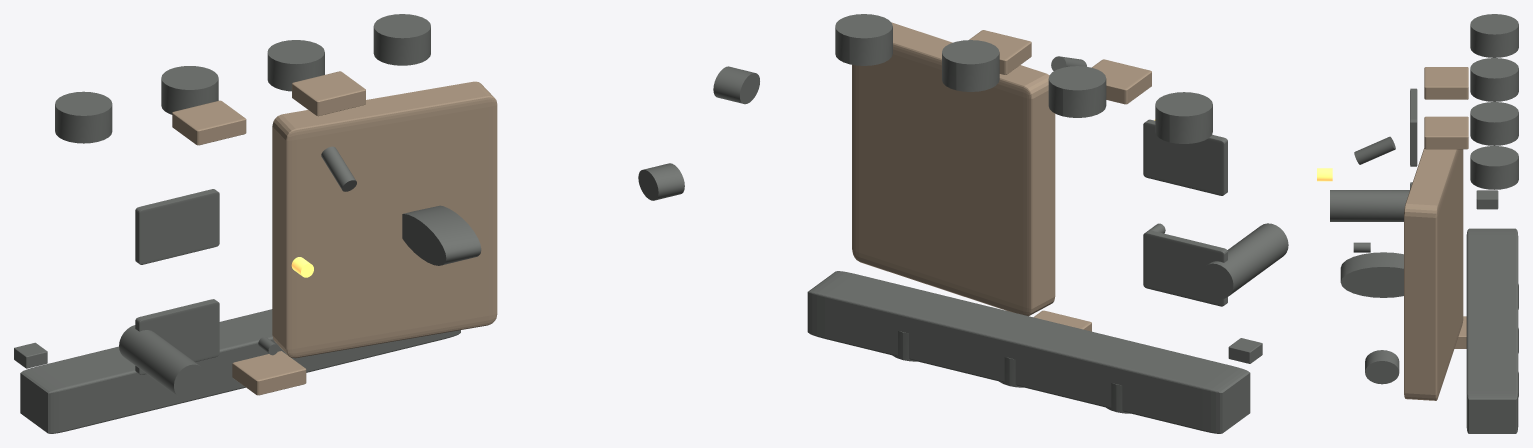
File: d-u13-dominion-main-battle-tank-lod2.glb
3 views of the same model, side by side, from view 1: azimuth 30°, elevation 25°; view 2: azimuth 150°, elevation 25°; view 3: azimuth 270°, elevation 25° (orthographic). The views are drawn at different scales.
Parts seen in each view (by area): view 1: glacis, track_right, engine_grille_03, recoil_sleeve, exhaust_right, engine_grille_01, wheel_l_1, wheel_l_7, dominion_side_armor_1_0, wheel_l_5, dominion_side_armor_1_2, dominion_side_armor_-1_1 (+4 smaller); view 2: glacis, track_right, engine_grille_03, engine_grille_01, exhaust_right, wheel_l_3, wheel_l_7, wheel_l_1, wheel_l_5, dominion_side_armor_1_0, muzzle, dominion_side_armor_1_2 (+2 smaller); view 3: glacis, track_right, recoil_sleeve, exhaust_right, wheel_l_7, wheel_l_3, wheel_l_5, wheel_l_1, dominion_side_armor_1_2, dominion_side_armor_1_0, muzzle, engine_grille_03 (+4 smaller).
Part boxes in pixels (left/top/right/bottom): glacis: left=272, top=81, right=497, bottom=358; track_right: left=20, top=309, right=460, bottom=433; engine_grille_03: left=135, top=189, right=219, bottom=264; recoil_sleeve: left=402, top=205, right=481, bottom=265; exhaust_right: left=119, top=325, right=206, bottom=399; engine_grille_01: left=135, top=299, right=219, bottom=374; wheel_l_1: left=55, top=91, right=112, bottom=143; wheel_l_7: left=373, top=14, right=430, bottom=65; dominion_side_armor_1_0: left=172, top=100, right=246, bottom=145; wheel_l_5: left=267, top=40, right=324, bottom=91; dominion_side_armor_1_2: left=292, top=71, right=365, bottom=116; dominion_side_armor_-1_1: left=232, top=351, right=306, bottom=395; glacis: left=852, top=22, right=1055, bottom=316; track_right: left=807, top=271, right=1250, bottom=433; engine_grille_03: left=1143, top=119, right=1227, bottom=195; engine_grille_01: left=1143, top=230, right=1227, bottom=306; exhaust_right: left=1200, top=223, right=1288, bottom=298; wheel_l_3: left=1048, top=66, right=1106, bottom=117; wheel_l_7: left=835, top=14, right=892, bottom=65; wheel_l_1: left=1155, top=92, right=1212, bottom=143; wheel_l_5: left=942, top=40, right=999, bottom=91; dominion_side_armor_1_0: left=1092, top=59, right=1151, bottom=104; muzzle: left=713, top=66, right=759, bottom=104; dominion_side_armor_1_2: left=969, top=30, right=1031, bottom=74; glacis: left=1404, top=148, right=1463, bottom=400; track_right: left=1466, top=228, right=1518, bottom=433; recoil_sleeve: left=1340, top=252, right=1403, bottom=297; exhaust_right: left=1330, top=190, right=1409, bottom=221; wheel_l_7: left=1470, top=146, right=1518, bottom=189; wheel_l_3: left=1470, top=58, right=1518, bottom=101; wheel_l_5: left=1470, top=102, right=1518, bottom=145; wheel_l_1: left=1470, top=14, right=1518, bottom=57; dominion_side_armor_1_2: left=1424, top=116, right=1468, bottom=149; dominion_side_armor_1_0: left=1424, top=67, right=1468, bottom=99; muzzle: left=1365, top=350, right=1399, bottom=384; engine_grille_03: left=1410, top=88, right=1417, bottom=166.
Size of what is drawn, in the model's own units: 8.11 by 4.04 by 2.82.
